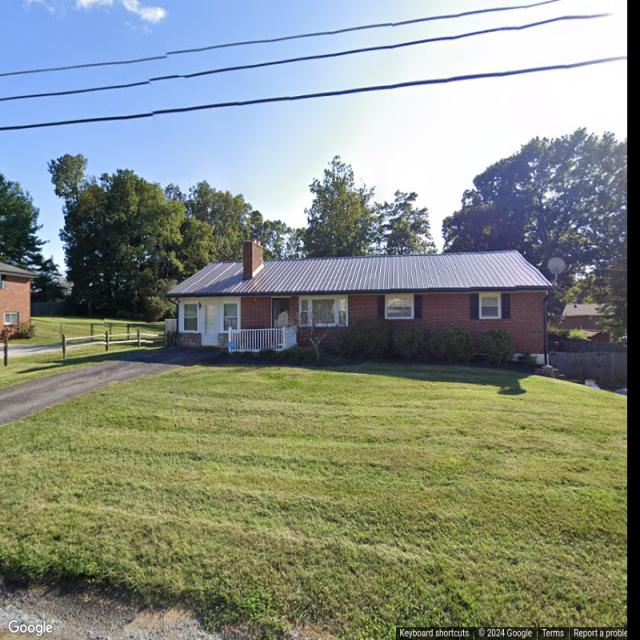House: (161, 234, 559, 370), (0, 260, 37, 342), (562, 304, 615, 330)
